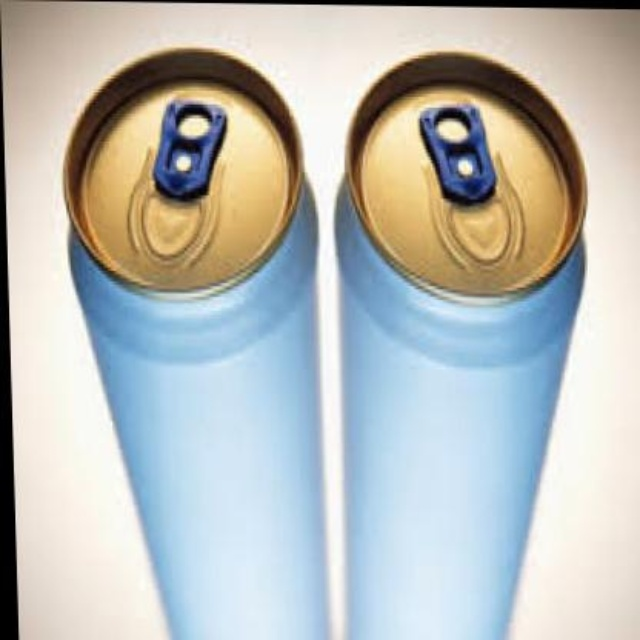trash: (65, 49, 325, 638), (337, 52, 585, 638)
